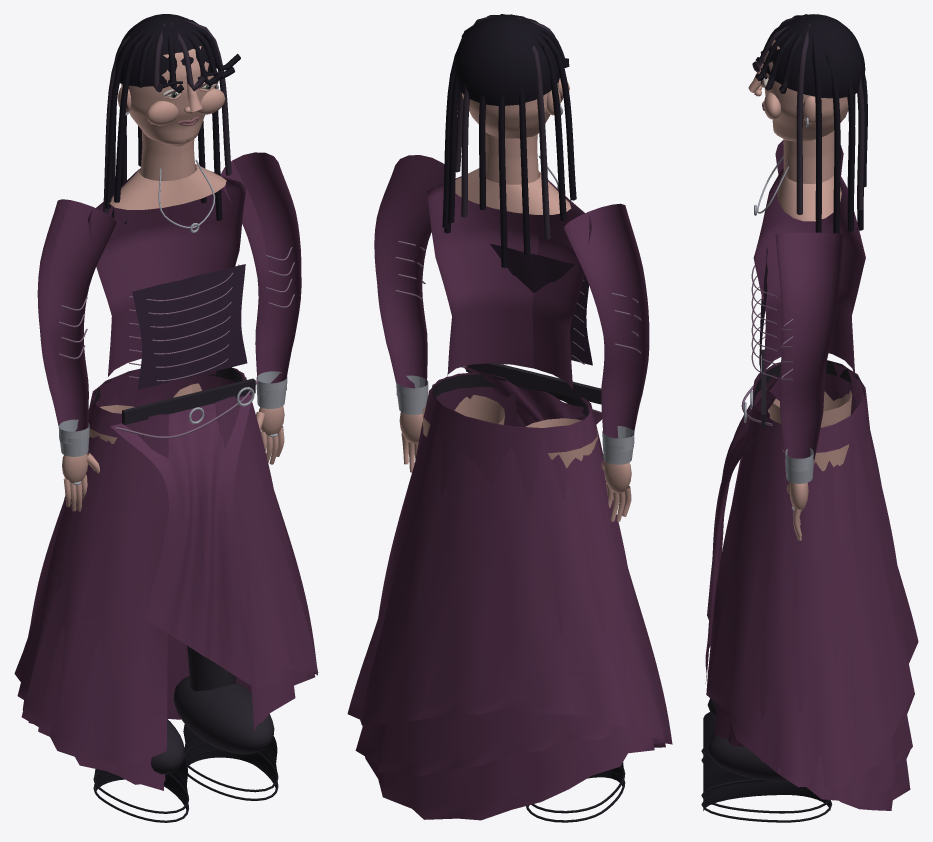
File: look-4-crowd.glb
3 renders of one model, left to right at view 1: azimuth 30°, elevation 25°; view 2: azimuth 150°, elevation 25°; view 3: azimuth 270°, elevation 25°, orthographic. The views are drawn at different scales.
Parts seen in each view (by area): view 1: look-4-crowd, arm-0, arm-1, leg-1, leg-0; view 2: look-4-crowd, arm-0, arm-1, leg-0, leg-1; view 3: look-4-crowd, arm-1, leg-1, leg-0.
Part boxes in pixels (box(x1,y1,x2,y2)): look-4-crowd: box(14, 14, 318, 790); arm-0: box(37, 199, 116, 511); arm-1: box(220, 152, 301, 464); leg-1: box(173, 383, 278, 800); leg-0: box(89, 405, 188, 822); look-4-crowd: box(347, 14, 672, 820); arm-0: box(564, 203, 649, 521); arm-1: box(374, 155, 455, 472); leg-0: box(525, 418, 625, 822); leg-1: box(422, 395, 504, 436); look-4-crowd: box(705, 14, 918, 810); arm-1: box(775, 232, 843, 540); leg-1: box(701, 424, 849, 822); leg-0: box(701, 390, 852, 762).
Size of the model in its own units: 0.8236 by 2.04 by 0.522.
